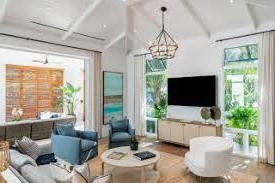TV: (166, 76, 218, 107)
chair: (182, 133, 237, 183), (47, 122, 101, 165), (107, 115, 139, 150)
console: (153, 118, 223, 146)
door: (65, 67, 85, 131)
fan: (29, 56, 64, 67)
light: (148, 3, 182, 64), (97, 20, 110, 31), (127, 28, 138, 37), (226, 0, 237, 5)
sofa: (0, 143, 108, 183)
table: (102, 146, 161, 183), (0, 112, 77, 140)
